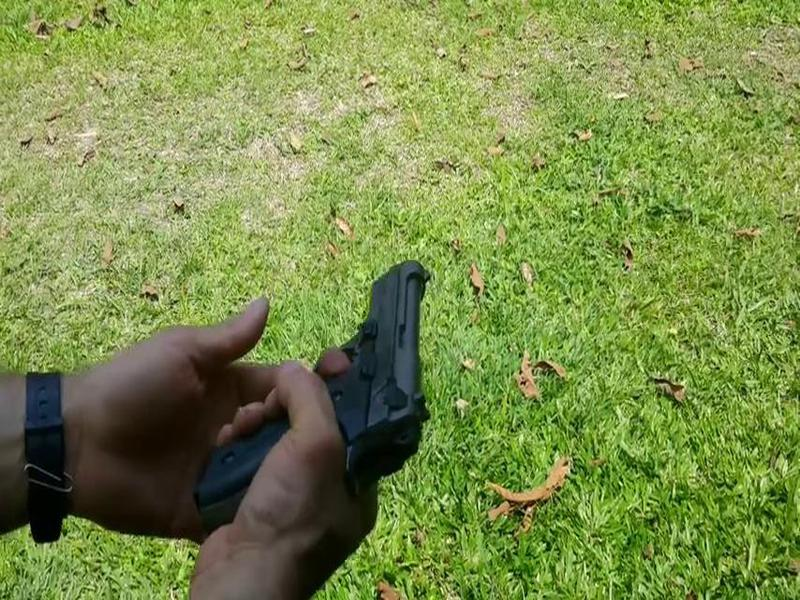Pistola: (197, 239, 457, 511)
